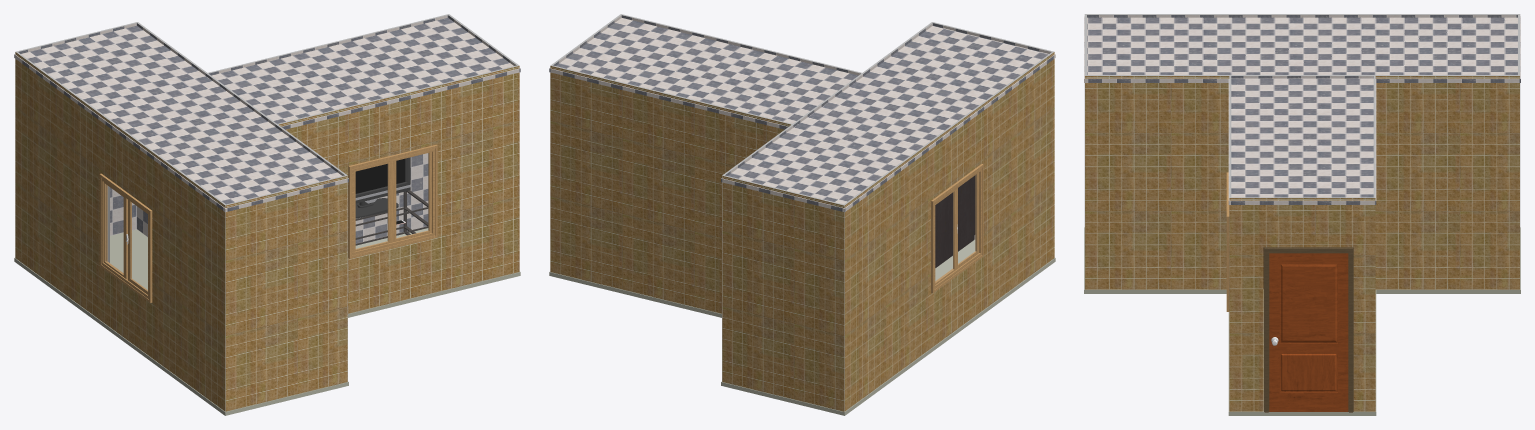
Rendered from ProcTHOR-Train-124.glb.
3 views of the same model, side by side, from view 1: azimuth 30°, elevation 25°; view 2: azimuth 150°, elevation 25°; view 3: azimuth 270°, elevation 25° (orthographic). The views are drawn at different scales.
Visible parts, largest first — view 1: WallInside#wall|exterior|5.02|0.00|5.02|5.02, WallInside#wall|exterior|0.00|3.35|3.35|3.35, Ceiling#room|2|c, WallInside#wall|exterior|3.35|5.02|5.02|5.02, Ceiling#room|3|c, Window_Slider_48x48 (×2), WallInside#wall|3|0.00|1.68|3.35|1.68, Floor#room|2|f, Television_26, WallInside#wall|2|3.35|0.00|5.02|0.00, Floor#room|3|f, TV_Stand_211_1 (+1 smaller); view 2: WallInside#wall|exterior|5.02|0.00|5.02|5.02, WallInside#wall|exterior|0.00|1.68|3.35|1.68, Ceiling#room|2|c, WallInside#wall|exterior|3.35|0.00|5.02|0.00, Ceiling#room|3|c, Window_Slider_48x48, Countertop_I_6x2, Floor#room|2|f, WallInside#wall|3|0.00|3.35|3.35|3.35, Floor#room|3|f, WallInside#wall|2|3.35|5.02|5.02|5.02; view 3: WallInside#wall|exterior|3.35|0.00|3.35|1.68, WallInside#wall|exterior|3.35|3.35|3.35|5.02, Ceiling#room|2|c, Ceiling#room|3|c, WallInside#wall|exterior|0.00|1.68|0.00|3.35, Doorway_4, WallInside#wall|2|5.02|0.00|5.02|5.02, Floor#room|2|f, Floor#room|3|f, WallInside#wall|3|3.35|1.68|3.35|3.35, Window_Slider_48x48, WallInside#wall|exterior|5.02|0.00|5.02|5.02.
Part boxes in pixels (bbox=[...]): WallInside#wall|exterior|5.02|0.00|5.02|5.02: bbox=[15, 51, 225, 411]; WallInside#wall|exterior|0.00|3.35|3.35|3.35: bbox=[278, 65, 519, 313]; Ceiling#room|2|c: bbox=[14, 25, 348, 212]; WallInside#wall|exterior|3.35|5.02|5.02|5.02: bbox=[225, 175, 347, 411]; Ceiling#room|3|c: bbox=[205, 18, 520, 129]; Window_Slider_48x48 (×2): bbox=[99, 144, 437, 302]; WallInside#wall|3|0.00|1.68|3.35|1.68: bbox=[207, 14, 449, 243]; Floor#room|2|f: bbox=[14, 229, 348, 415]; Television_26: bbox=[355, 157, 410, 218]; WallInside#wall|2|3.35|0.00|5.02|0.00: bbox=[17, 22, 137, 235]; Floor#room|3|f: bbox=[348, 228, 520, 317]; TV_Stand_211_1: bbox=[355, 190, 428, 245]; WallInside#wall|exterior|5.02|0.00|5.02|5.02: bbox=[844, 51, 1054, 411]; WallInside#wall|exterior|0.00|1.68|3.35|1.68: bbox=[550, 65, 792, 313]; Ceiling#room|2|c: bbox=[721, 25, 1055, 212]; WallInside#wall|exterior|3.35|0.00|5.02|0.00: bbox=[722, 175, 844, 411]; Ceiling#room|3|c: bbox=[549, 18, 858, 129]; Window_Slider_48x48: bbox=[931, 164, 983, 293]; Countertop_I_6x2: bbox=[935, 175, 975, 267]; Floor#room|2|f: bbox=[721, 239, 1055, 415]; WallInside#wall|3|0.00|3.35|3.35|3.35: bbox=[620, 14, 862, 75]; Floor#room|3|f: bbox=[549, 272, 721, 317]; WallInside#wall|2|3.35|5.02|5.02|5.02: bbox=[933, 22, 1053, 239]; WallInside#wall|exterior|3.35|0.00|3.35|1.68: bbox=[1375, 75, 1519, 289]; WallInside#wall|exterior|3.35|3.35|3.35|5.02: bbox=[1085, 75, 1229, 289]; Ceiling#room|2|c: bbox=[1084, 16, 1520, 82]; Ceiling#room|3|c: bbox=[1228, 79, 1376, 204]; WallInside#wall|exterior|0.00|1.68|0.00|3.35: bbox=[1229, 197, 1375, 411]; Doorway_4: bbox=[1264, 247, 1353, 412]; WallInside#wall|2|5.02|0.00|5.02|5.02: bbox=[1085, 14, 1519, 17]; Floor#room|2|f: bbox=[1084, 227, 1520, 293]; Floor#room|3|f: bbox=[1228, 289, 1376, 415]; WallInside#wall|3|3.35|1.68|3.35|3.35: bbox=[1229, 75, 1374, 78]; Window_Slider_48x48: bbox=[1226, 172, 1229, 311]; WallInside#wall|exterior|5.02|0.00|5.02|5.02: bbox=[1085, 14, 1517, 14].
Size of what is drawn, in the model's own units: 5.16 by 2.78 by 5.06.
113 materials, 51 textured.
